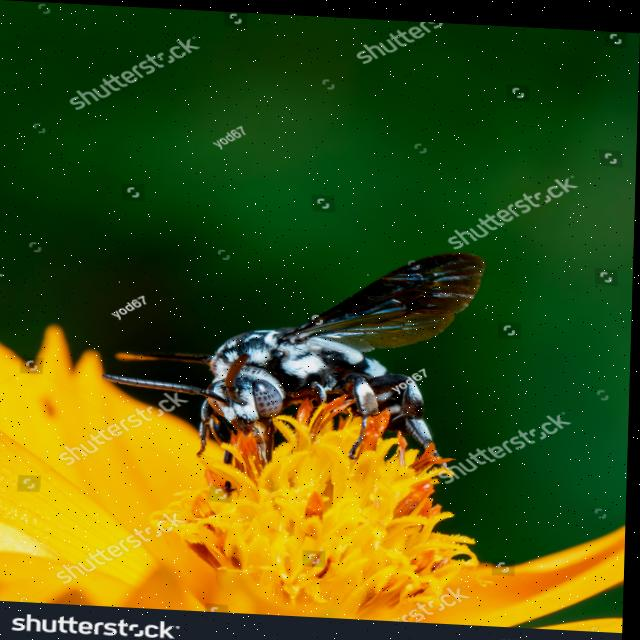Thyreus: (103, 232, 498, 488)
